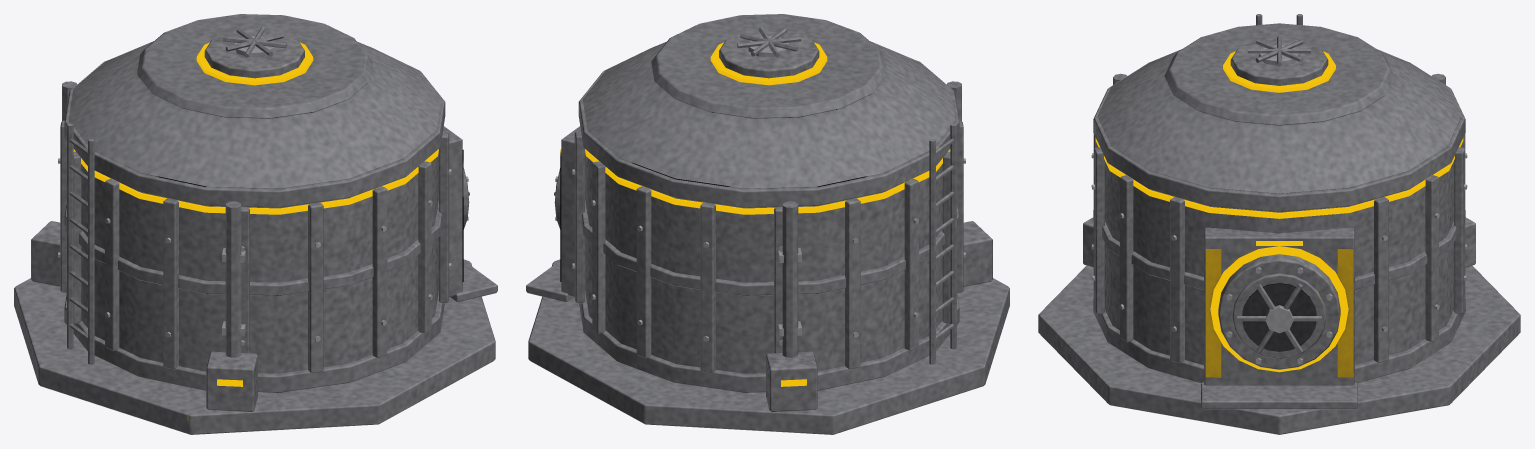
The model's file is nodexeus-vault.glb.
The picture shows the model from 3 angles, left to right: view 1: azimuth 30°, elevation 25°; view 2: azimuth 150°, elevation 25°; view 3: azimuth 270°, elevation 25°; orthographic projection. The views are drawn at different scales.
Visible parts, largest first — view 1: vault; view 2: vault; view 3: vault.
Boxes of the visible parts, box(x1,y1,x2,y2) form: vault: box(14, 14, 497, 434); vault: box(526, 14, 1009, 434); vault: box(1038, 14, 1520, 434).
Size of the model in its own units: 3.07 by 2 by 3.07.
1 material, 1 textured.
